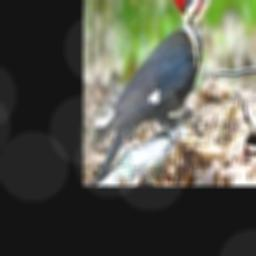Woodpecker: (92, 0, 225, 186)
